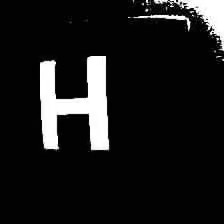LTR_H: (31, 47, 117, 154)
